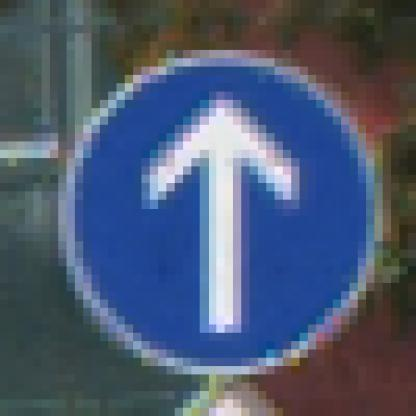AheadOnly: (51, 51, 367, 375)
